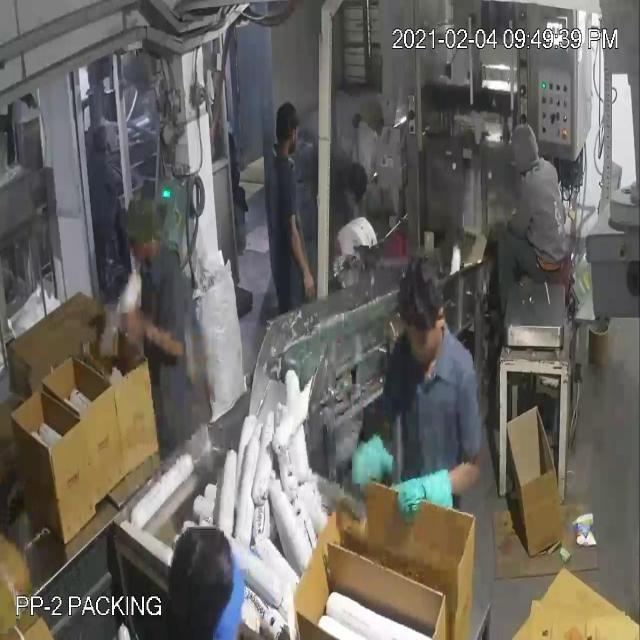No_Gloves: (40, 56, 428, 488)
